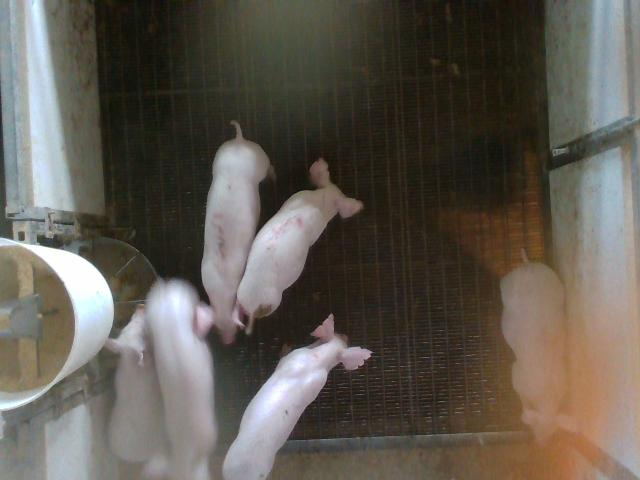pig-3: (201, 120, 272, 343)
pig-4: (500, 255, 574, 446)
pig-5: (238, 158, 364, 333)
